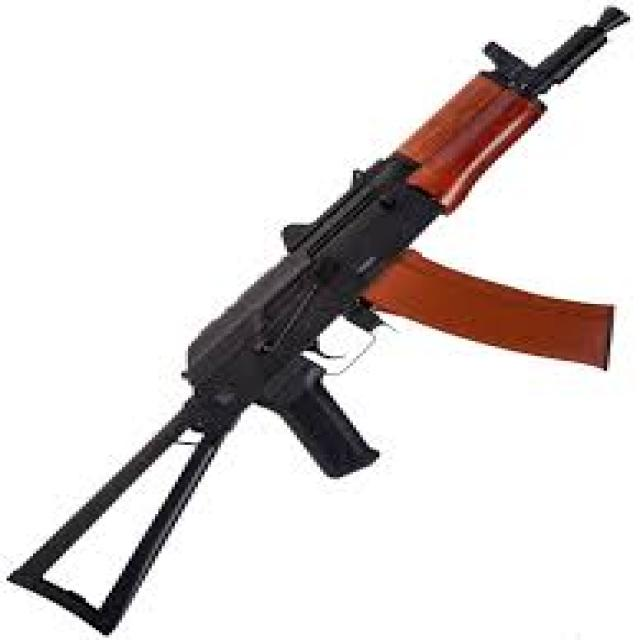rifle: (5, 6, 634, 640)
